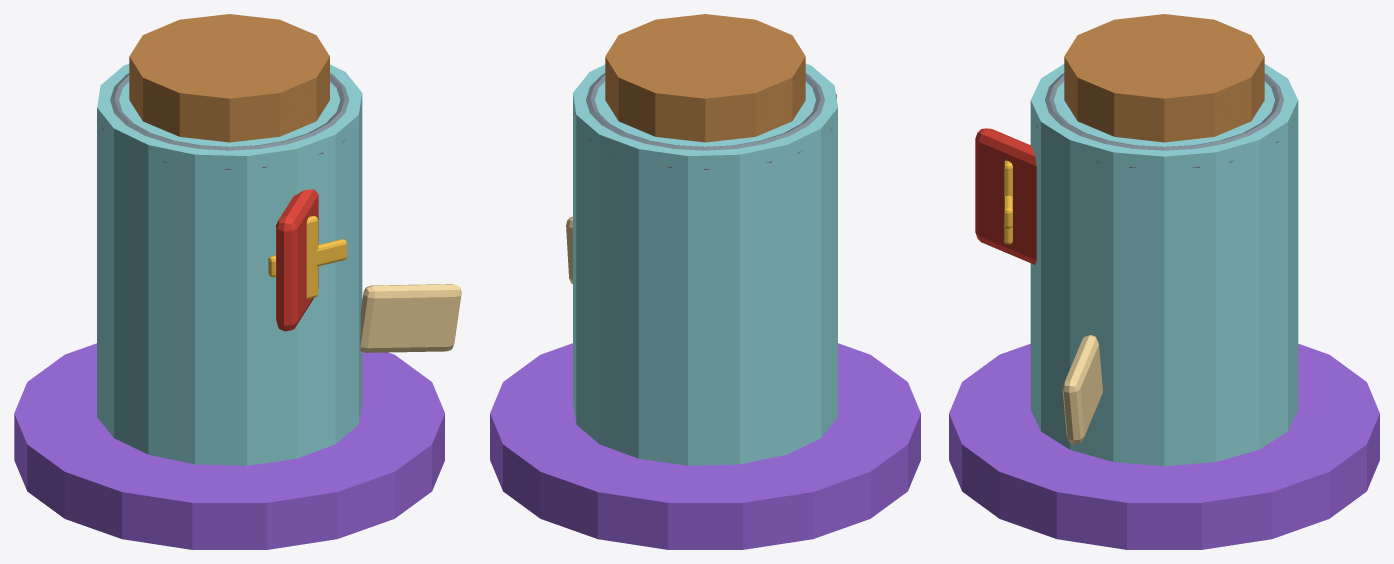
The model's file is grove_sealed_muck_sample.glb.
3 renders of one model, left to right at view 1: azimuth 30°, elevation 25°; view 2: azimuth 150°, elevation 25°; view 3: azimuth 270°, elevation 25°, orthographic.
Parts seen in each view (by area): view 1: Sealed_Jar, Sealed_Sample_Base, Sealed_Cork, Sealed_Label, Chapel_Wax_Seal, Sealed_Iron_Band, Chapel_Seal_Cross_V, Chapel_Seal_Cross_H; view 2: Sealed_Jar, Sealed_Sample_Base, Sealed_Cork, Sealed_Iron_Band; view 3: Sealed_Jar, Sealed_Sample_Base, Sealed_Cork, Chapel_Wax_Seal, Sealed_Label, Sealed_Iron_Band.
Boxes of the visible parts, x1,y1,x2,y2 form: Sealed_Jar: [97, 64, 362, 465]; Sealed_Sample_Base: [14, 343, 444, 549]; Sealed_Cork: [129, 14, 329, 142]; Sealed_Label: [360, 284, 461, 352]; Chapel_Wax_Seal: [276, 189, 318, 331]; Sealed_Iron_Band: [102, 73, 361, 169]; Chapel_Seal_Cross_V: [306, 216, 318, 299]; Chapel_Seal_Cross_H: [268, 239, 346, 277]; Sealed_Jar: [573, 64, 837, 465]; Sealed_Sample_Base: [490, 343, 920, 549]; Sealed_Cork: [605, 14, 805, 142]; Sealed_Iron_Band: [573, 73, 832, 169]; Sealed_Jar: [1030, 64, 1298, 466]; Sealed_Sample_Base: [949, 343, 1379, 549]; Sealed_Cork: [1064, 14, 1264, 142]; Chapel_Wax_Seal: [975, 128, 1036, 264]; Sealed_Label: [1062, 335, 1102, 444]; Sealed_Iron_Band: [1036, 73, 1292, 168].
Size of the model in its own units: 1.14 by 1.2 by 1.16.
